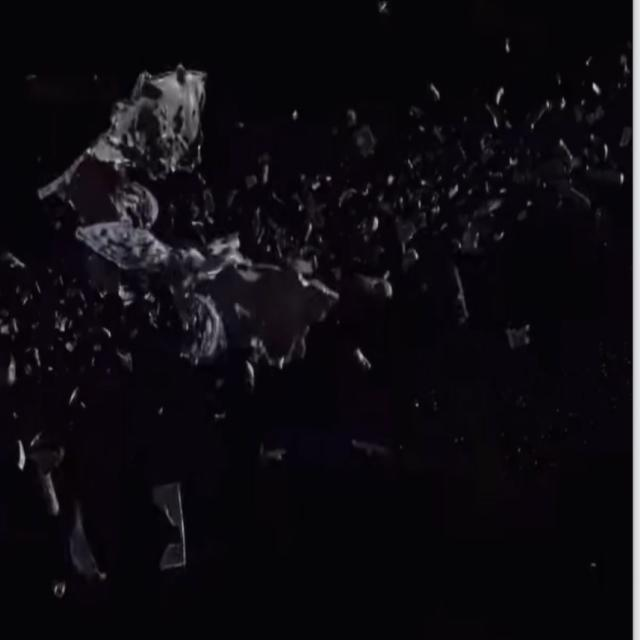large_debris: (23, 47, 267, 374), (6, 422, 73, 520), (138, 468, 195, 582), (59, 492, 113, 599), (344, 99, 381, 158), (447, 258, 475, 329), (499, 315, 534, 353)
